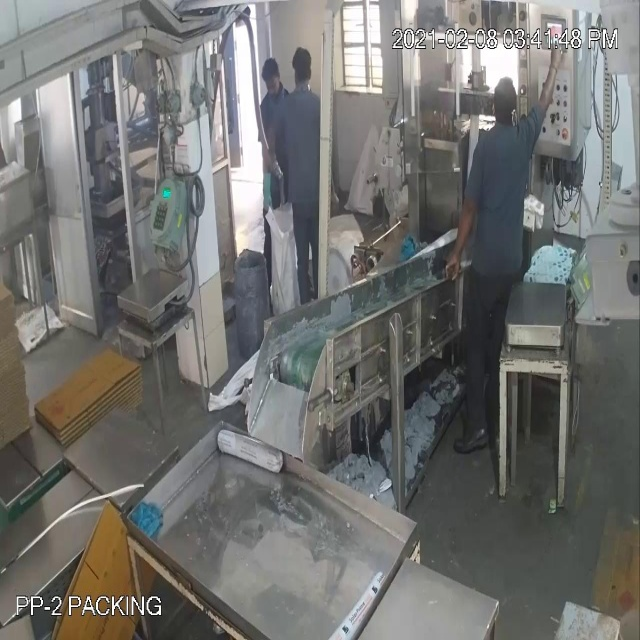Sin_guantes: (432, 200, 489, 285), (533, 37, 577, 123)
